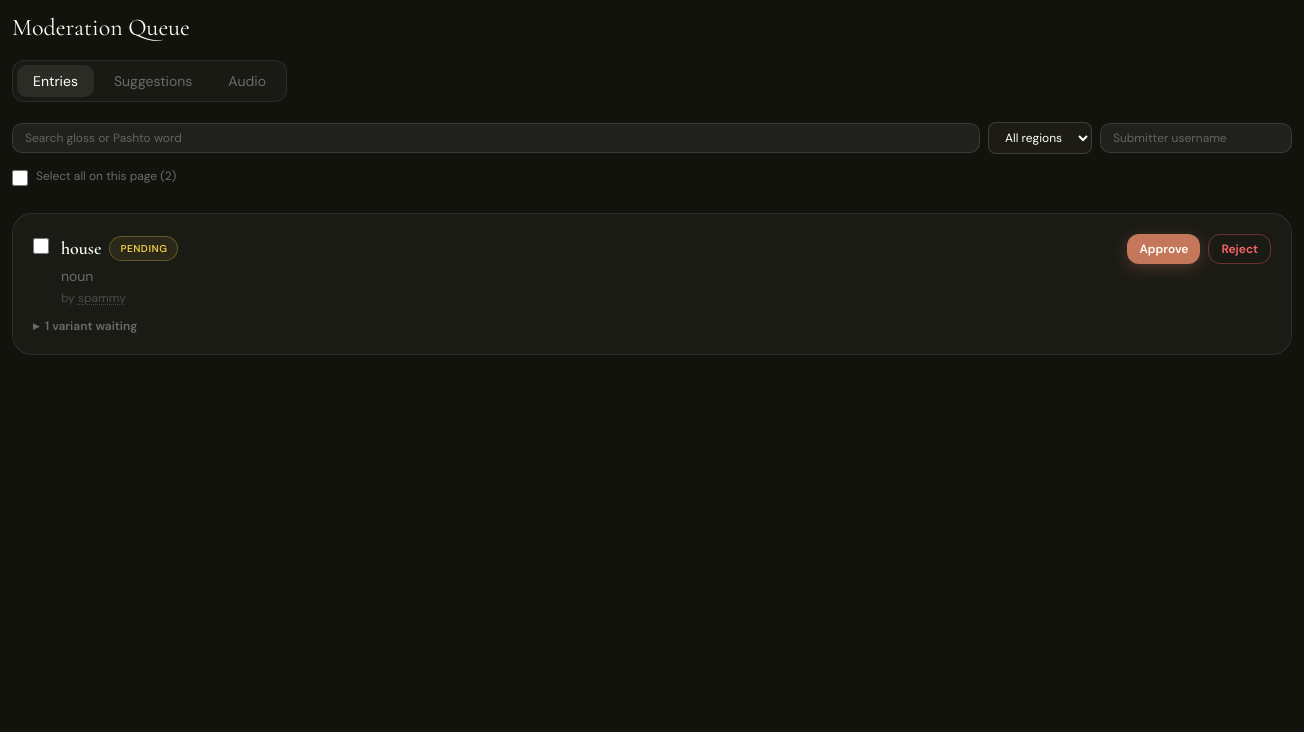
bulk actions › approves the selected concept before its word and toasts the result
Click the checkbox labelled "Select all on this page" at [20, 178], box [12,170,28,186]
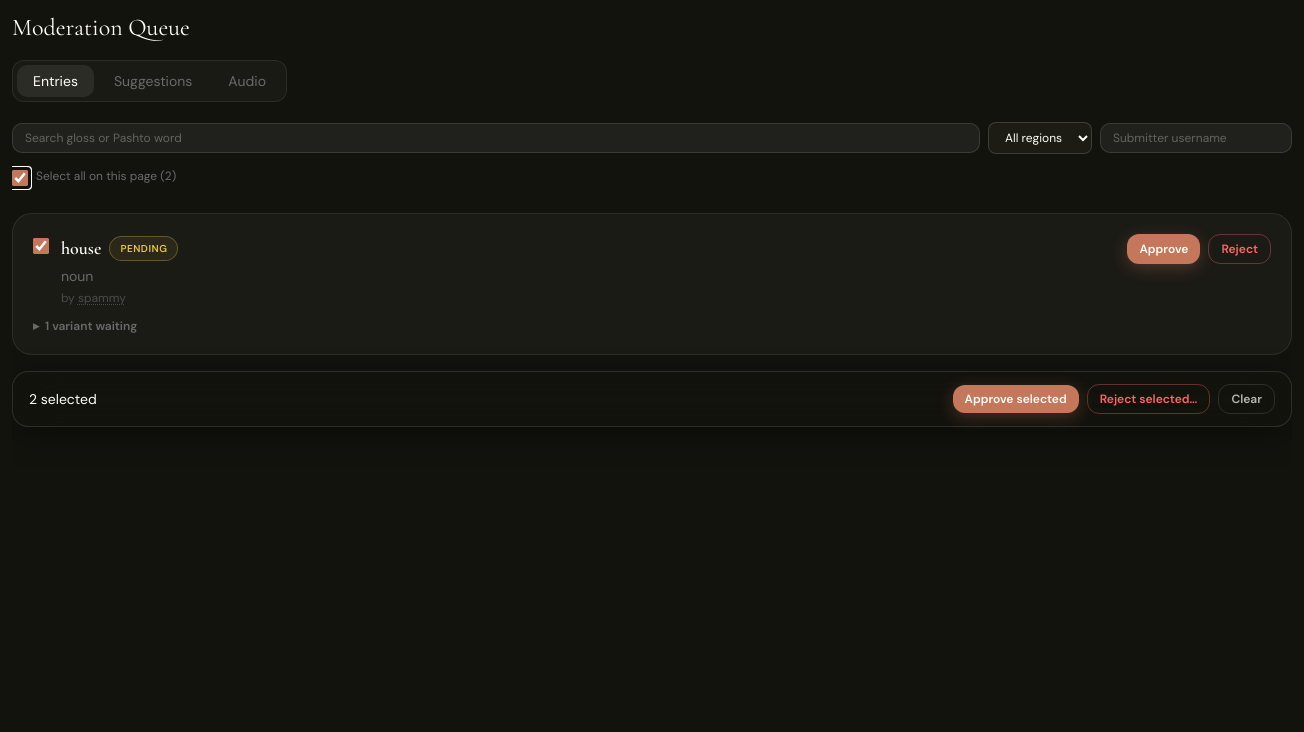
Click the button "Approve selected" at [1016, 399], box [952,385,1079,413]
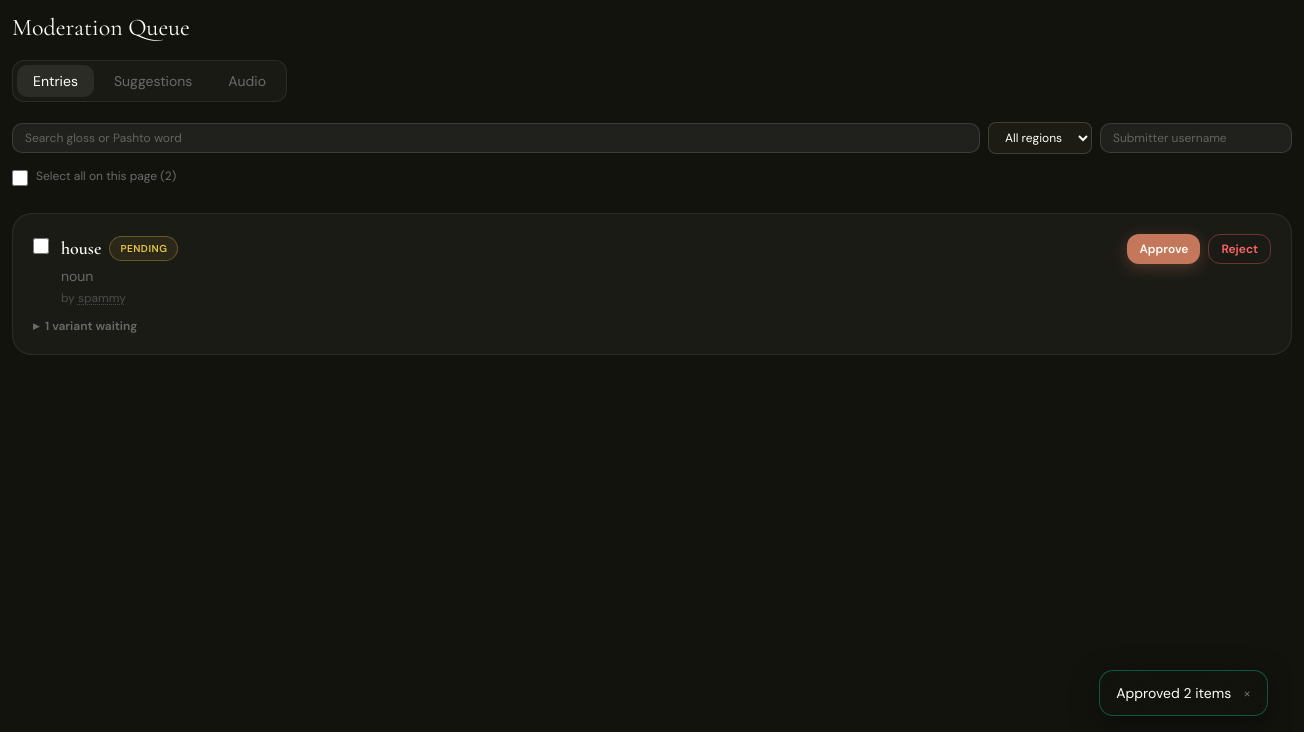
Expected: the message shows "Approved 2 items", [1116,684,1231,702]
